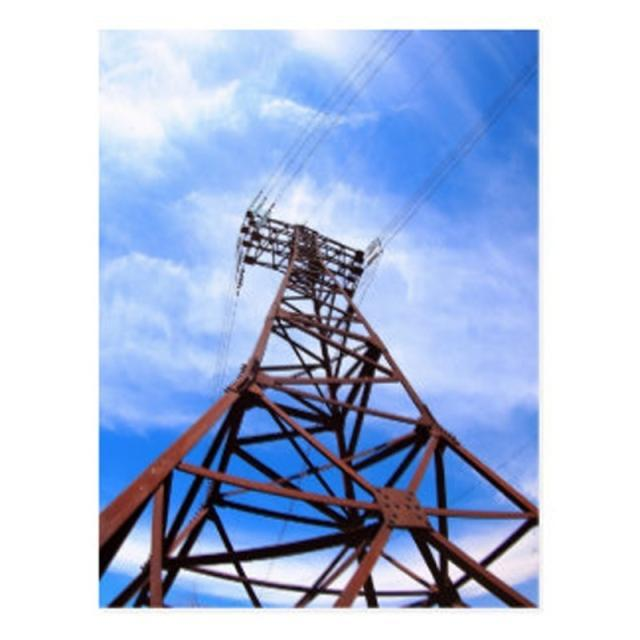non-critical vegetation: (112, 194, 521, 561)
